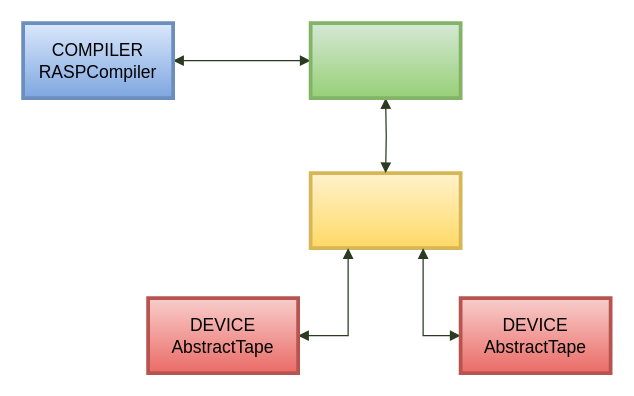
The diagram is 634 pixels wide and 396 high, and some of its shapes have lost their labels. Here are the shapes that lost their labels. From the top down, the box of each, then its label:
(308, 21, 462, 99): MEMORY RASPMemory
(308, 171, 462, 249): CPU RASPCpu
